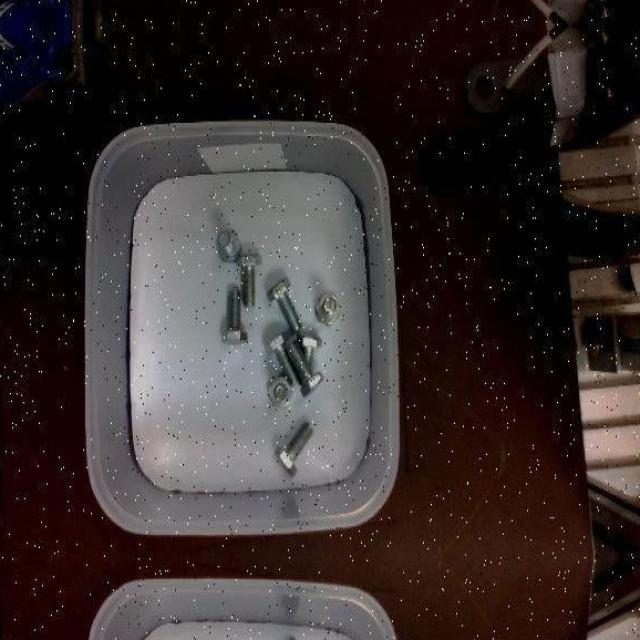screw: (274, 421, 314, 476), (286, 340, 324, 397), (267, 276, 302, 333), (266, 330, 300, 386), (223, 288, 249, 344), (236, 254, 261, 306), (314, 292, 340, 326), (268, 375, 293, 408), (218, 232, 243, 262)
